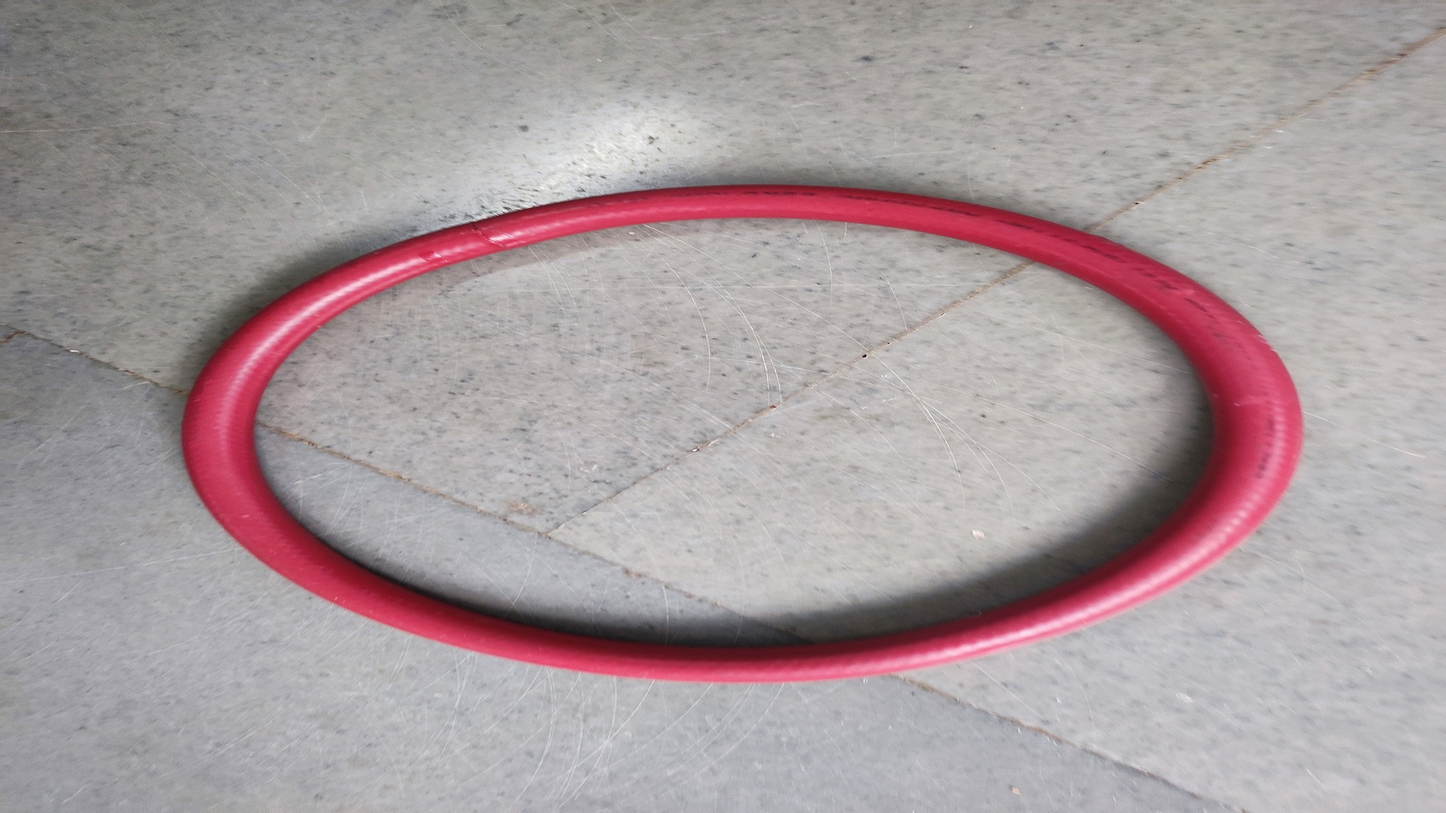Red ring: (181, 187, 1301, 686)
